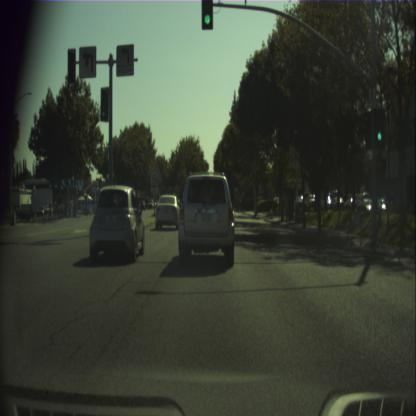Green: (373, 108, 384, 148), (201, 0, 213, 30)
GreenLeft: (100, 86, 109, 121)
off: (67, 48, 76, 82)
